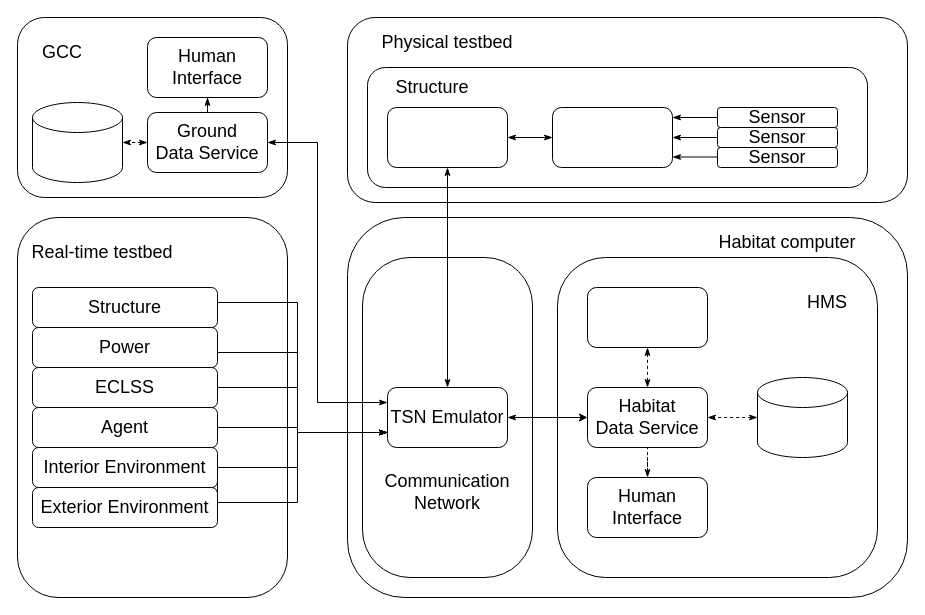
Some shapes in this 925 by 615 pixel diagram are drawn without their labels. Here are the shapes that lost their labels. From the top down, the centre of each, then its label:
At [77,142]: "Ground Database".
At [447,137]: "Host".
At [612,137]: "DAQ".
At [647,317]: "Command & Control".
At [802,417]: "Habitat Database".
